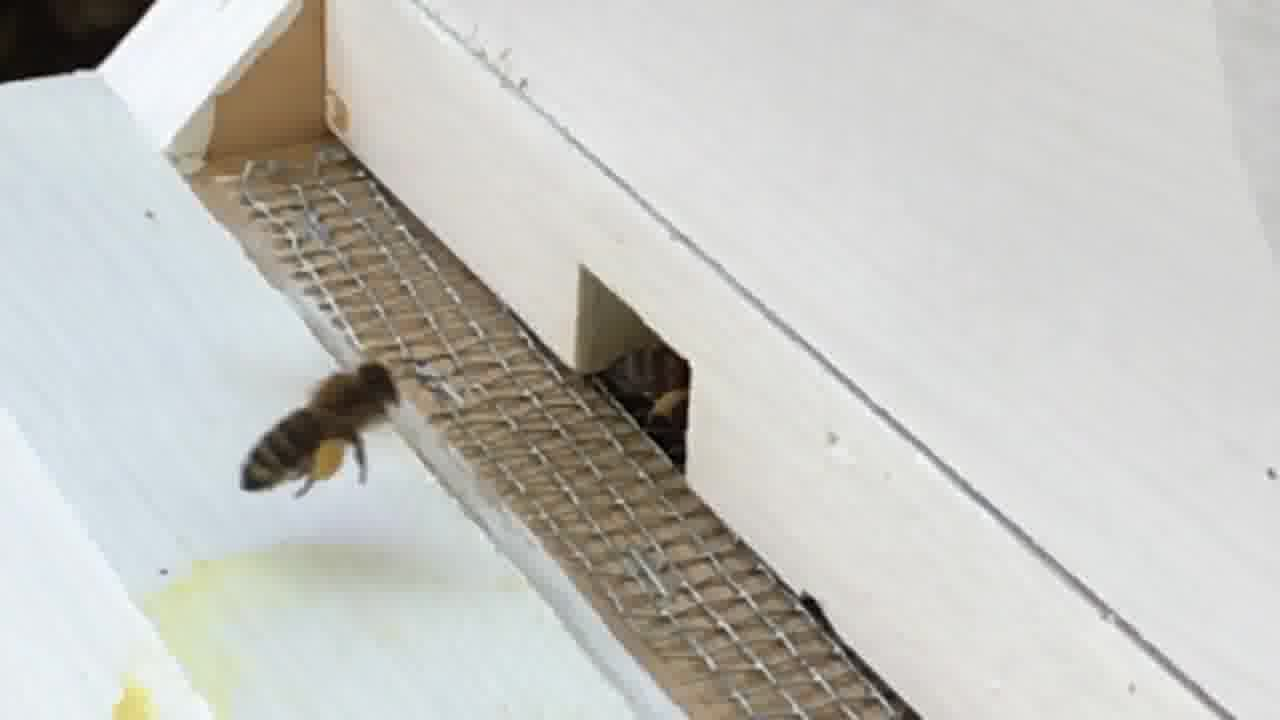pollen: (245, 366, 403, 506)
